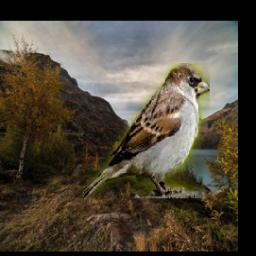Sparrow: (79, 63, 211, 198)
